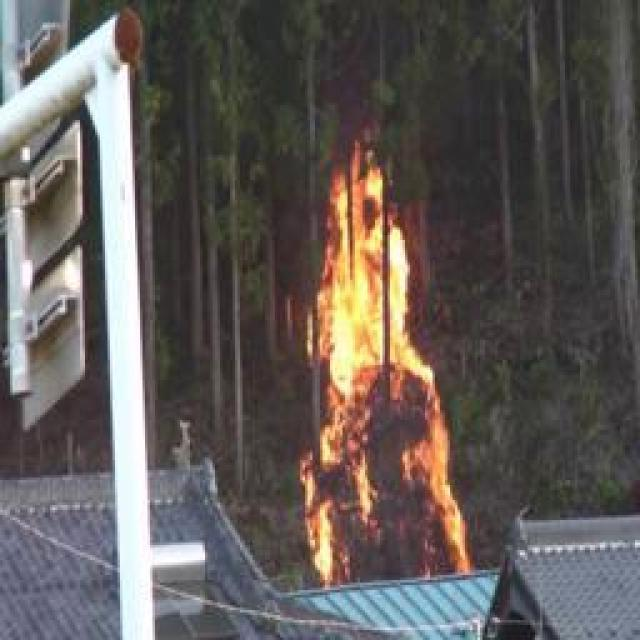Fire: (305, 155, 469, 589)
